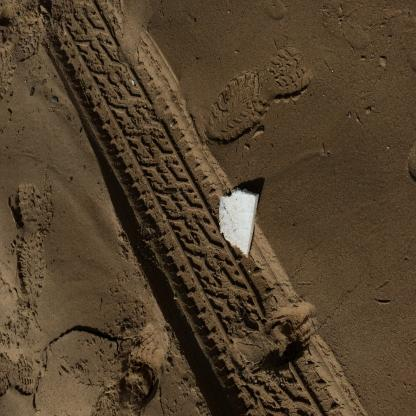trash: (216, 186, 262, 259)
